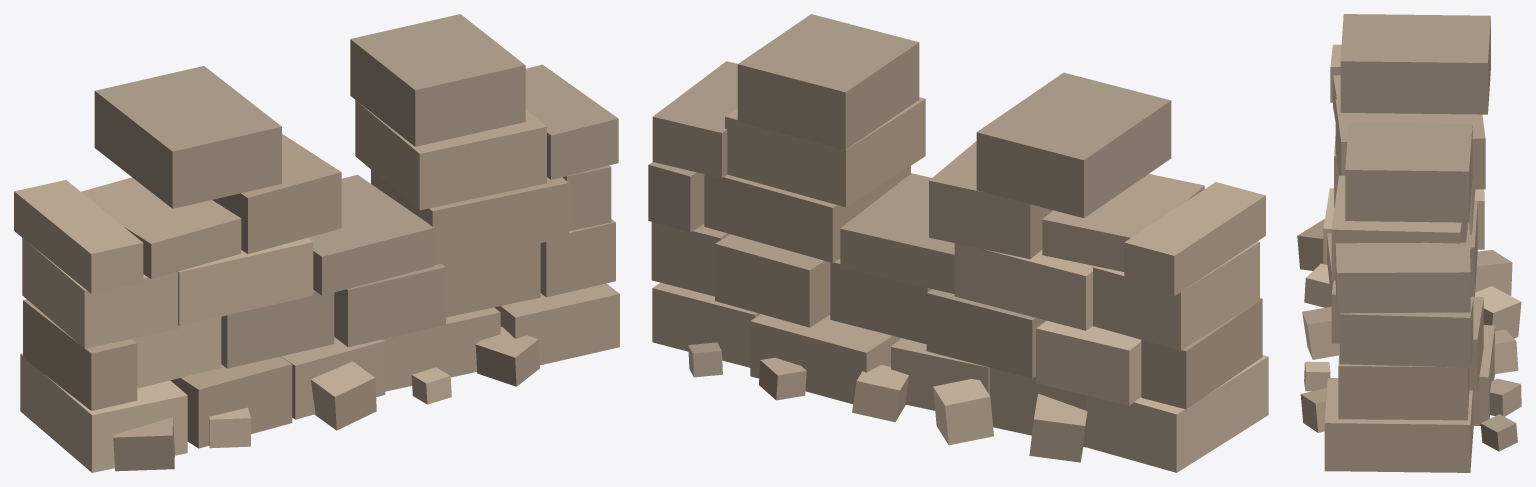
Rendered from EarthWall.fbx.
The picture shows the model from 3 angles, left to right: view 1: azimuth 30°, elevation 25°; view 2: azimuth 150°, elevation 25°; view 3: azimuth 270°, elevation 25°; orthographic projection. The views are drawn at different scales.
Parts seen in each view (by area): view 1: Wall_Stone.017, Wall_Stone.018, Wall_Stone.016, Wall_Cap, Wall_Cap.001, Wall_Stone.011, Wall_Stone.013, Wall_Stone, Wall_Cap.002, Wall_Stone.015, Wall_Stone.012, Wall_Stone.005 (+16 smaller); view 2: Wall_Stone.017, Wall_Stone.018, Wall_Stone.016, Wall_Stone, Wall_Cap.001, Wall_Stone.011, Wall_Stone.013, Wall_Cap, Wall_Stone.012, Wall_Stone.009, Wall_Stone.003, Wall_Stone.015 (+16 smaller); view 3: Wall_Stone.017, Wall_Stone.018, Wall_Cap.003, Wall_Stone.004, Wall_Stone.014, Wall_Stone.010, Wall_Stone.016, Wall_Stone.015, Wall_Rubble.003, Wall_Stone.003, Wall_Rubble.004, Wall_Rubble.001 (+15 smaller).
Boxes of the visible parts, x1,y1,x2,y2 form: Wall_Stone.017: [94, 66, 281, 208]; Wall_Stone.018: [350, 14, 525, 146]; Wall_Stone.016: [355, 100, 546, 210]; Wall_Cap: [308, 174, 434, 295]; Wall_Cap.001: [14, 180, 143, 293]; Wall_Stone.011: [22, 238, 177, 348]; Wall_Stone.013: [371, 170, 568, 264]; Wall_Stone: [20, 353, 187, 472]; Wall_Cap.002: [81, 177, 241, 278]; Wall_Stone.015: [212, 134, 341, 253]; Wall_Stone.012: [178, 237, 313, 325]; Wall_Stone.005: [23, 299, 137, 410]; Wall_Stone.017: [976, 72, 1171, 217]; Wall_Stone.018: [737, 14, 919, 149]; Wall_Stone.016: [725, 97, 925, 207]; Wall_Stone: [1087, 355, 1268, 472]; Wall_Cap.001: [1124, 182, 1265, 296]; Wall_Stone.011: [1093, 241, 1259, 350]; Wall_Stone.013: [704, 166, 910, 262]; Wall_Cap: [840, 173, 954, 293]; Wall_Stone.012: [954, 243, 1094, 330]; Wall_Stone.009: [715, 234, 830, 327]; Wall_Stone.003: [750, 314, 900, 404]; Wall_Stone.015: [929, 141, 1052, 259]; Wall_Stone.017: [1340, 14, 1490, 114]; Wall_Stone.018: [1345, 122, 1472, 222]; Wall_Cap.003: [1335, 242, 1470, 313]; Wall_Stone.004: [1324, 378, 1473, 472]; Wall_Stone.014: [1339, 299, 1473, 367]; Wall_Stone.010: [1338, 345, 1469, 420]; Wall_Stone.016: [1331, 175, 1467, 280]; Wall_Stone.015: [1335, 99, 1485, 189]; Wall_Rubble.003: [1475, 286, 1521, 338]; Wall_Stone.003: [1473, 325, 1494, 425]; Wall_Rubble.004: [1302, 306, 1339, 359]; Wall_Rubble.001: [1475, 250, 1512, 295].
Size of the model in its own units: 653 by 350 by 264.
